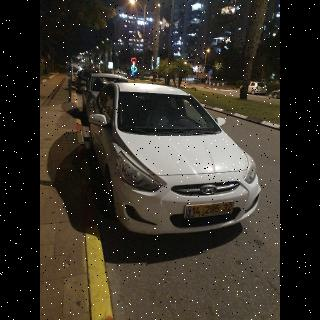LicensePlate: (189, 201, 236, 216)
